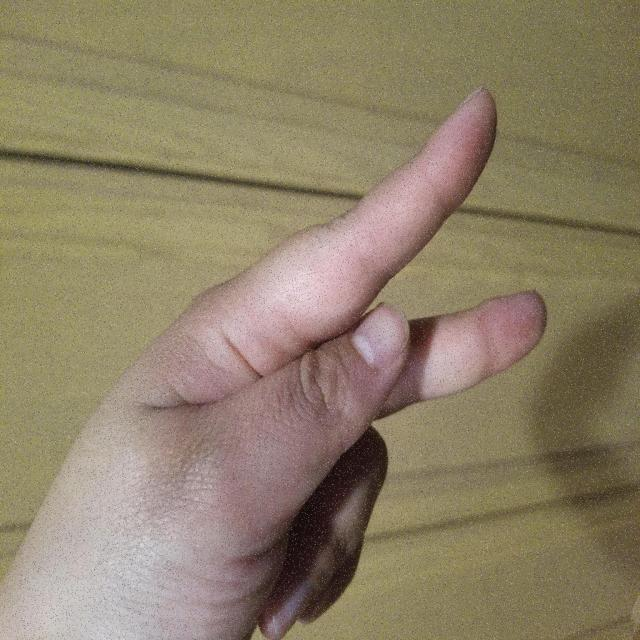P: (46, 72, 555, 640)
